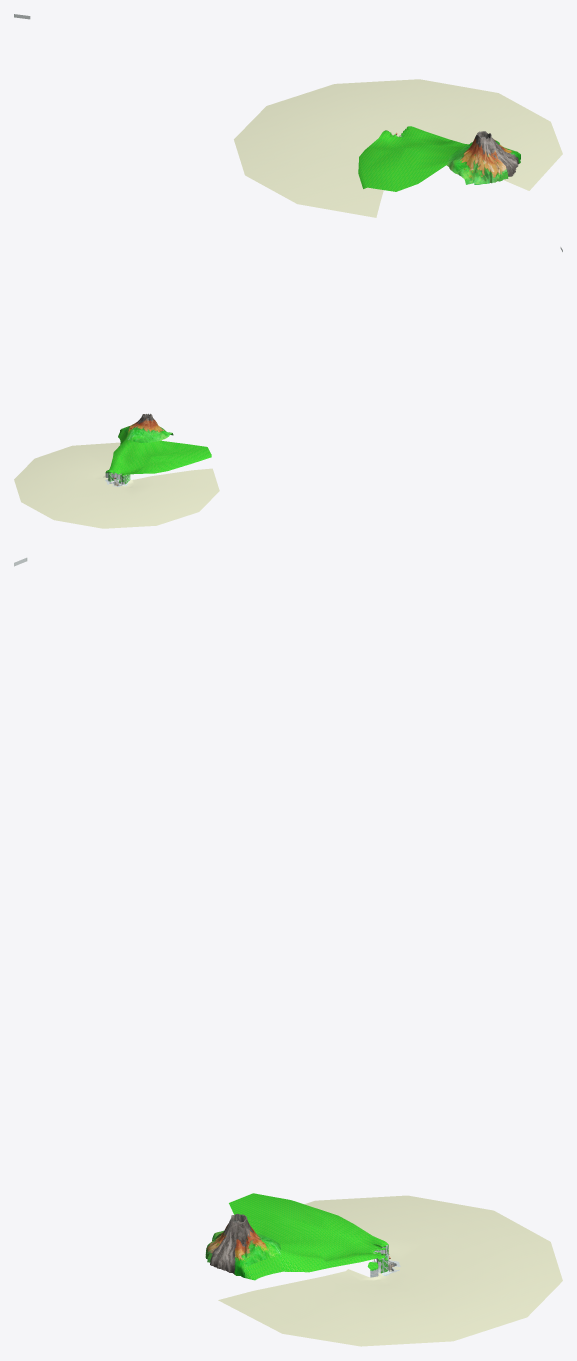
The model's file is NokiBay.obj.
The picture shows the model from 3 angles, top to bottom: view 1: azimuth 30°, elevation 25°; view 2: azimuth 150°, elevation 25°; view 3: azimuth 270°, elevation 25°; orthographic projection. The views are drawn at different scales.
Size of the model in its own units: 74108 by 39895 by 46912.
27 materials, 27 textured.
